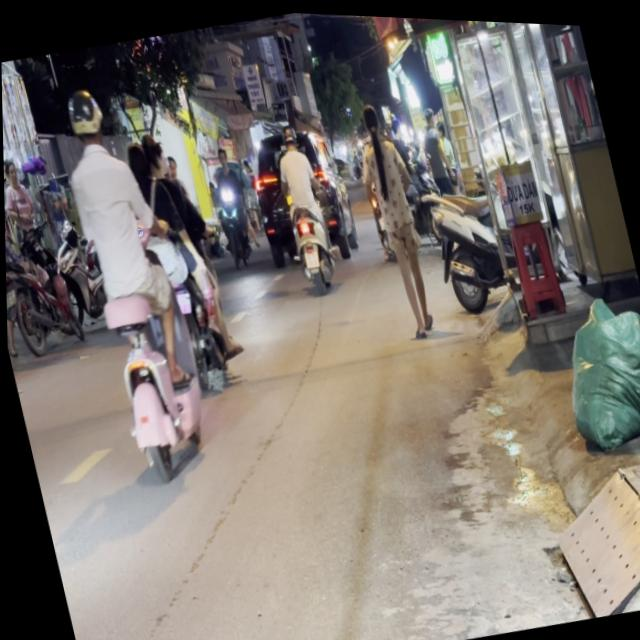helmet: (58, 81, 108, 153)
licenseplate: (40, 72, 217, 486), (122, 117, 245, 395)
motorcyclist: (119, 135, 151, 184), (135, 129, 165, 175)
